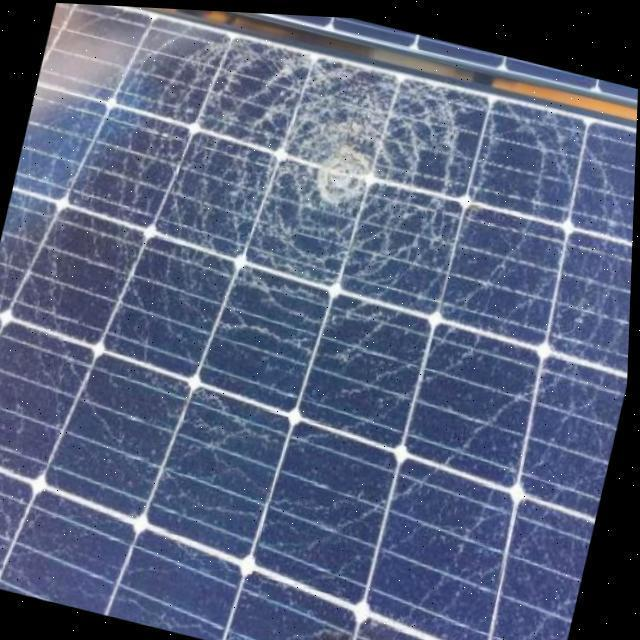Anomaly Solar Panel: (0, 2, 637, 640)
Structural Damage: (164, 32, 505, 370)
